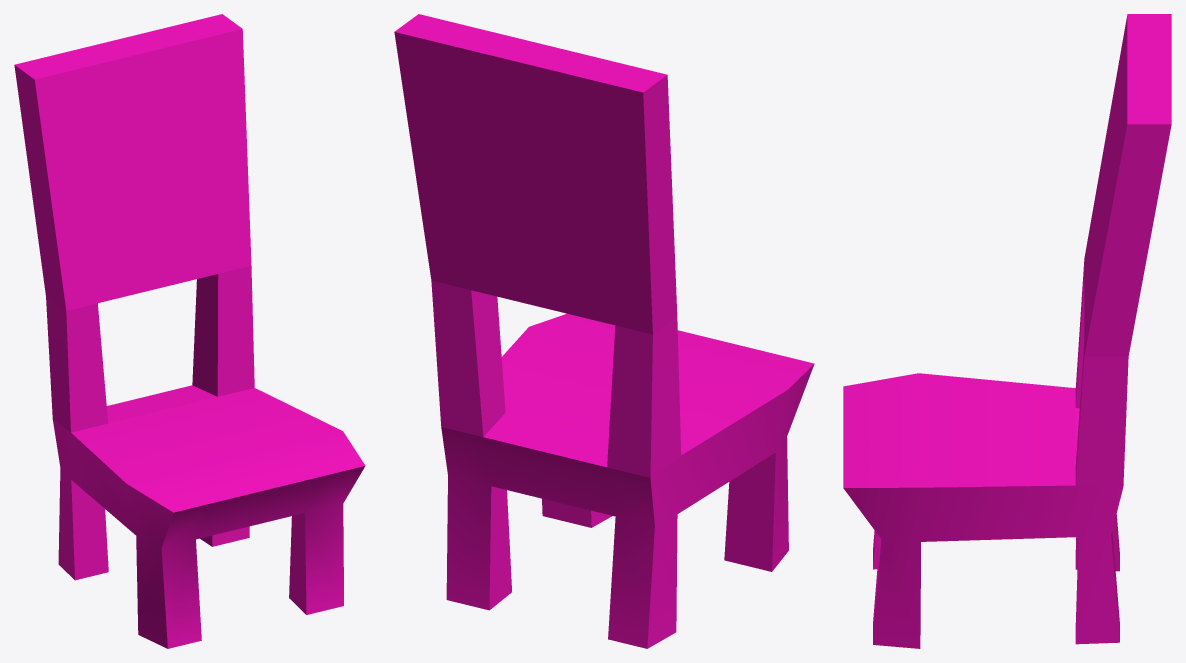
Rendered from study_chair_1_meshCollider.fbx.
The picture shows the model from 3 angles, left to right: view 1: azimuth 30°, elevation 25°; view 2: azimuth 150°, elevation 25°; view 3: azimuth 270°, elevation 25°; orthographic projection. The views are drawn at different scales.
Parts seen in each view (by area): view 1: study_chair_1_meshCollider; view 2: study_chair_1_meshCollider; view 3: study_chair_1_meshCollider.
Part boxes in pixels (left/top/right/bottom): study_chair_1_meshCollider: left=14, top=14, right=365, bottom=648; study_chair_1_meshCollider: left=394, top=14, right=814, bottom=648; study_chair_1_meshCollider: left=843, top=14, right=1171, bottom=648.
Size of the model in its own units: 36.82 by 79.33 by 44.62.
